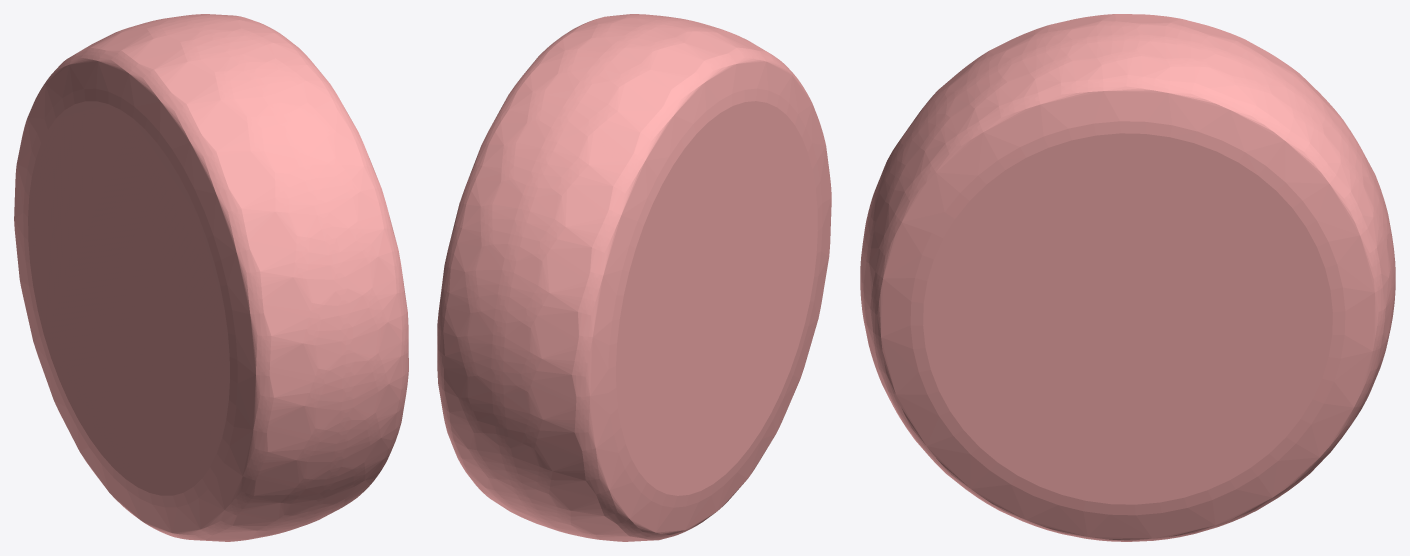
File: rambler_Rueda4dyn_coll_1.dae
The picture shows the model from 3 angles, left to right: view 1: azimuth 30°, elevation 25°; view 2: azimuth 150°, elevation 25°; view 3: azimuth 270°, elevation 25°; orthographic projection.
Visible parts, largest first — view 1: Node_0x7fe100285c80; view 2: Node_0x7fe100285c80; view 3: Node_0x7fe100285c80.
Part boxes in pixels (x1,y1,x2,y2): Node_0x7fe100285c80: (14, 14, 408, 541); Node_0x7fe100285c80: (437, 14, 831, 541); Node_0x7fe100285c80: (860, 14, 1395, 541).
Size of the model in its own units: 0.1941 by 0.5333 by 0.5333.
